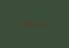nine: (42, 20, 46, 29)
one: (47, 21, 51, 29)
seven: (32, 19, 36, 28)
six: (27, 19, 31, 27), (37, 20, 41, 28)
three: (17, 18, 21, 26)
zero: (22, 18, 26, 27)
